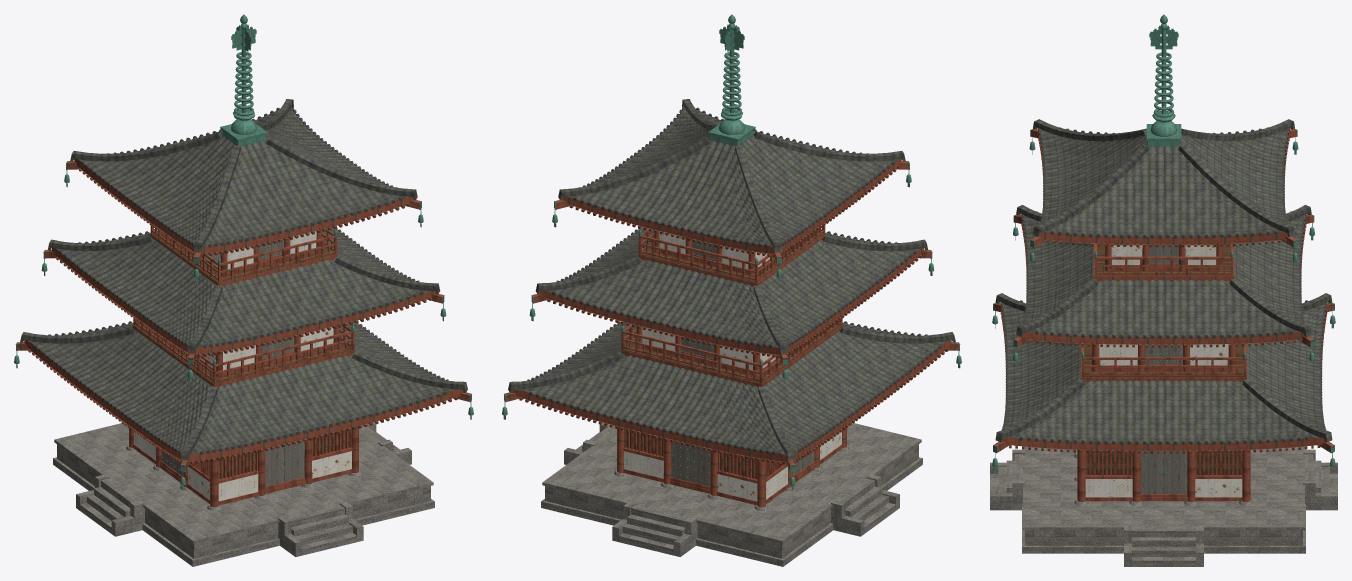
Rendered from Pagoda.glb.
3 renders of one model, left to right at view 1: azimuth 30°, elevation 25°; view 2: azimuth 150°, elevation 25°; view 3: azimuth 270°, elevation 25°, orthographic.
Parts seen in each view (by area): view 1: Roof 1, Roof 3, Platform, Roof 2, Storey 1, Storey 2, Storey 3, Finial; view 2: Roof 1, Roof 3, Platform, Roof 2, Storey 1, Storey 2, Storey 3, Finial; view 3: Roof 1, Roof 3, Platform, Roof 2, Storey 1, Storey 2, Storey 3, Finial.
Boxes of the visible parts, left/top/right/bottom form: Roof 1: left=14, top=321, right=473, bottom=489; Roof 3: left=64, top=99, right=423, bottom=281; Platform: left=53, top=422, right=434, bottom=566; Roof 2: left=41, top=227, right=446, bottom=382; Storey 1: left=129, top=426, right=358, bottom=507; Storey 2: left=132, top=318, right=355, bottom=387; Storey 3: left=150, top=225, right=337, bottom=286; Finial: left=220, top=14, right=267, bottom=145; Roof 1: left=502, top=320, right=961, bottom=490; Roof 3: left=552, top=99, right=911, bottom=281; Platform: left=541, top=422, right=922, bottom=566; Roof 2: left=529, top=226, right=934, bottom=382; Storey 1: left=617, top=427, right=846, bottom=507; Storey 2: left=620, top=318, right=843, bottom=387; Storey 3: left=638, top=226, right=825, bottom=286; Finial: left=708, top=14, right=755, bottom=145; Roof 1: left=992, top=293, right=1335, bottom=471; Roof 3: left=1029, top=119, right=1298, bottom=265; Platform: left=990, top=446, right=1337, bottom=566; Roof 2: left=1013, top=205, right=1314, bottom=365; Storey 1: left=1077, top=449, right=1250, bottom=501; Storey 2: left=1081, top=343, right=1246, bottom=382; Storey 3: left=1093, top=243, right=1234, bottom=281; Finial: left=1146, top=14, right=1181, bottom=146.
Bounding box in the file's own units: 13.52 × 20.57 × 13.52.
11 materials, 11 textured.
